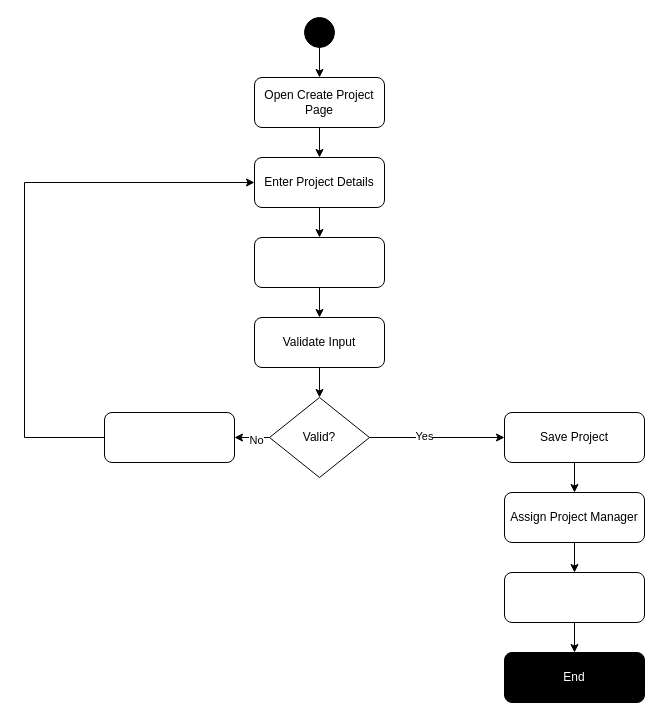
This 662x720 diagram has some shape labels left out. Each missing label, with the centre of its shape:
Click "Create": point (319, 262)
Display Errors: point (169, 437)
Show Success Message: point (574, 597)
